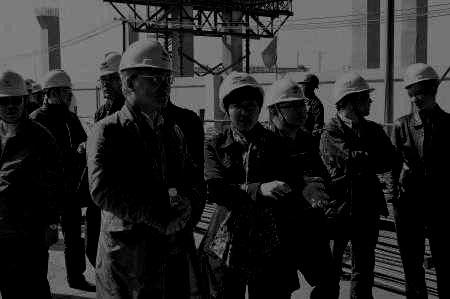helmet: (118, 38, 177, 110), (217, 70, 264, 129), (265, 78, 310, 131), (331, 72, 376, 117), (403, 62, 441, 110), (1, 69, 29, 121), (41, 68, 73, 110), (97, 50, 123, 99), (297, 73, 320, 96)
